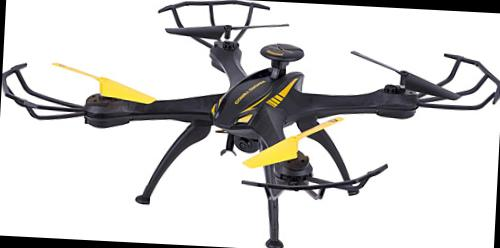drone: (0, 0, 492, 210)
